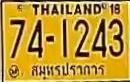1: (62, 19, 67, 57)
2: (74, 20, 88, 57)
3: (108, 18, 123, 56)
4: (91, 18, 106, 57), (27, 19, 42, 57)
7: (10, 19, 24, 58)
SPK: (28, 60, 107, 79)
